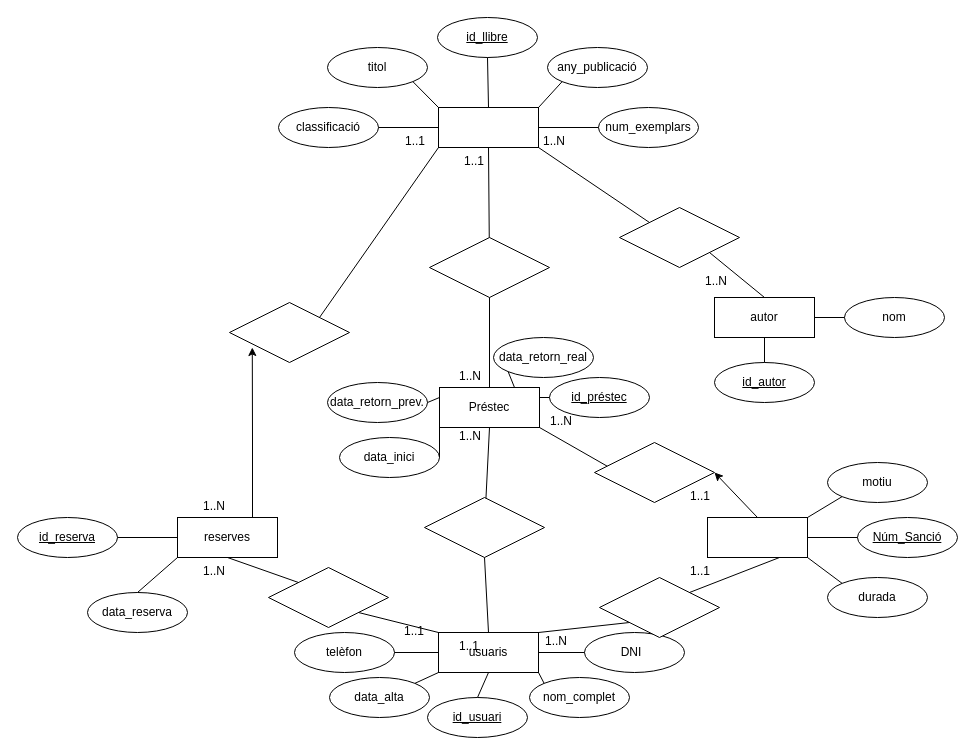
The diagram is 975 pixels wide and 755 high, and some of its shapes have lost their labels. The centre of each missing label's shape, as x and y in pixels:
contenen: (489,267)
demanar: (484,527)
escriu: (679,237)
fan: (328,597)
generen: (654,472)
llibres: (488,127)
sancionar: (757,537)
son: (289,332)
tenen: (659,607)
